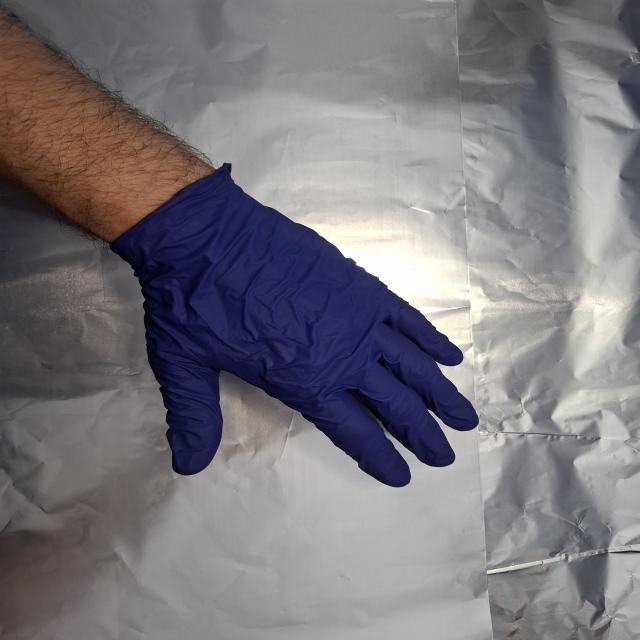glove_on: (116, 172, 484, 489)
